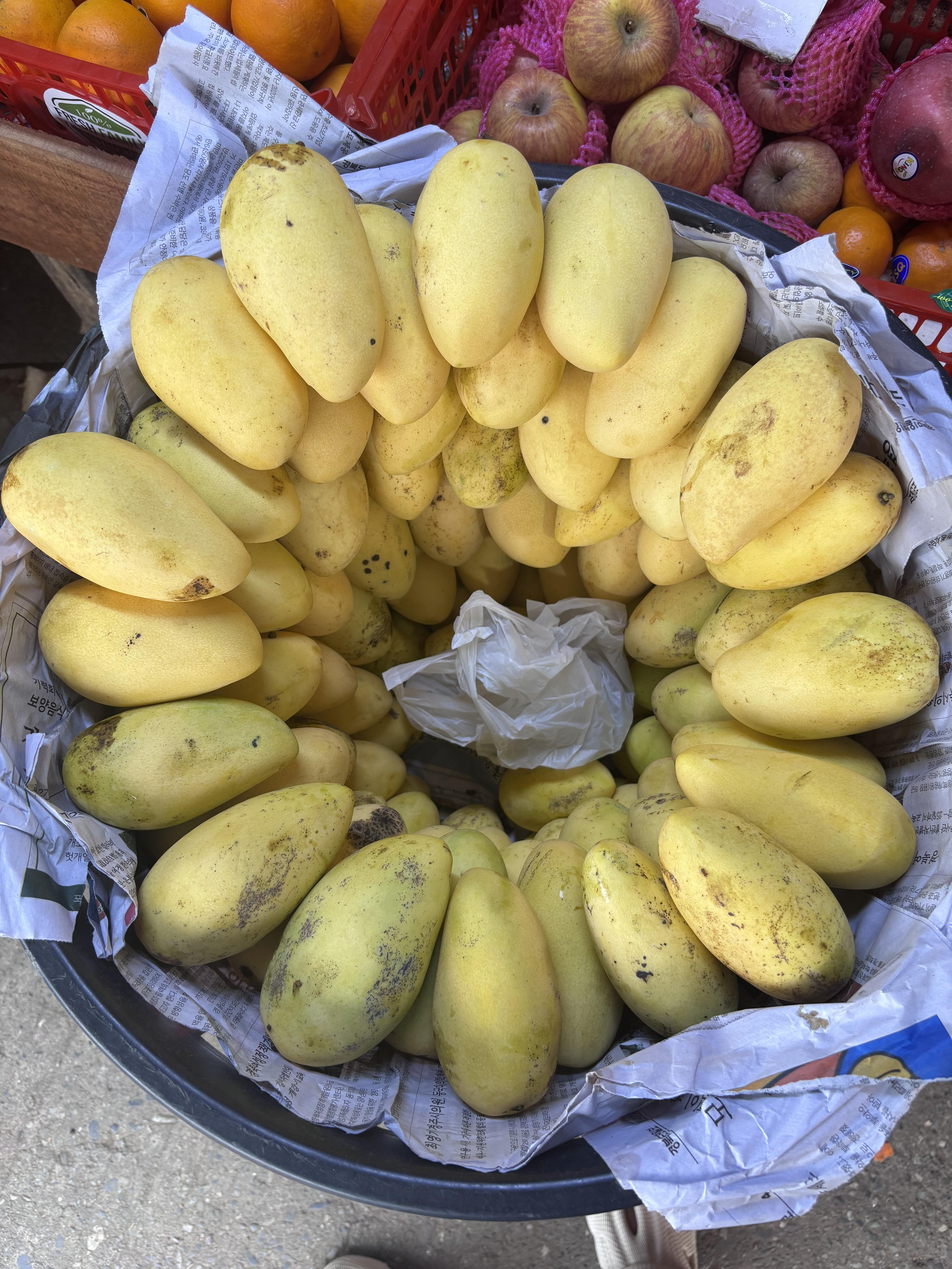mango: (260, 835, 452, 1066), (2, 431, 251, 602), (220, 143, 384, 402), (680, 338, 862, 564), (135, 782, 354, 966), (659, 808, 855, 1003), (712, 592, 939, 739), (434, 868, 561, 1116), (63, 699, 299, 830), (412, 140, 543, 367)
occluded: (131, 256, 308, 471), (676, 744, 916, 889), (585, 257, 747, 469), (582, 839, 738, 1036), (39, 579, 263, 708), (536, 164, 672, 373), (710, 453, 901, 590), (518, 837, 624, 1069), (128, 402, 300, 543), (631, 361, 749, 540), (357, 204, 450, 431), (695, 562, 872, 672), (519, 363, 619, 511), (454, 297, 566, 429), (671, 720, 886, 787), (224, 725, 356, 807), (201, 632, 322, 720), (624, 572, 730, 671), (279, 464, 369, 576), (372, 377, 465, 474), (499, 760, 615, 832), (288, 387, 374, 483), (443, 415, 529, 509), (484, 476, 569, 568), (227, 542, 312, 633), (409, 471, 487, 567), (555, 459, 640, 547), (360, 433, 441, 521), (344, 499, 415, 599), (387, 937, 440, 1058), (577, 521, 652, 603), (302, 668, 394, 734), (651, 664, 732, 736), (323, 590, 392, 666), (285, 569, 354, 637), (392, 552, 456, 624), (638, 521, 707, 585), (628, 793, 691, 863), (443, 828, 507, 894), (367, 610, 430, 676), (457, 537, 520, 602), (444, 829, 507, 892), (445, 829, 507, 893), (355, 698, 422, 755), (560, 797, 628, 850), (350, 740, 406, 800), (346, 798, 408, 851), (308, 643, 357, 709), (620, 716, 671, 776), (539, 548, 588, 604), (388, 792, 440, 832), (638, 756, 682, 798), (500, 839, 536, 884), (445, 804, 502, 830), (476, 825, 511, 852), (613, 781, 646, 809), (536, 818, 566, 840), (417, 825, 456, 838)
